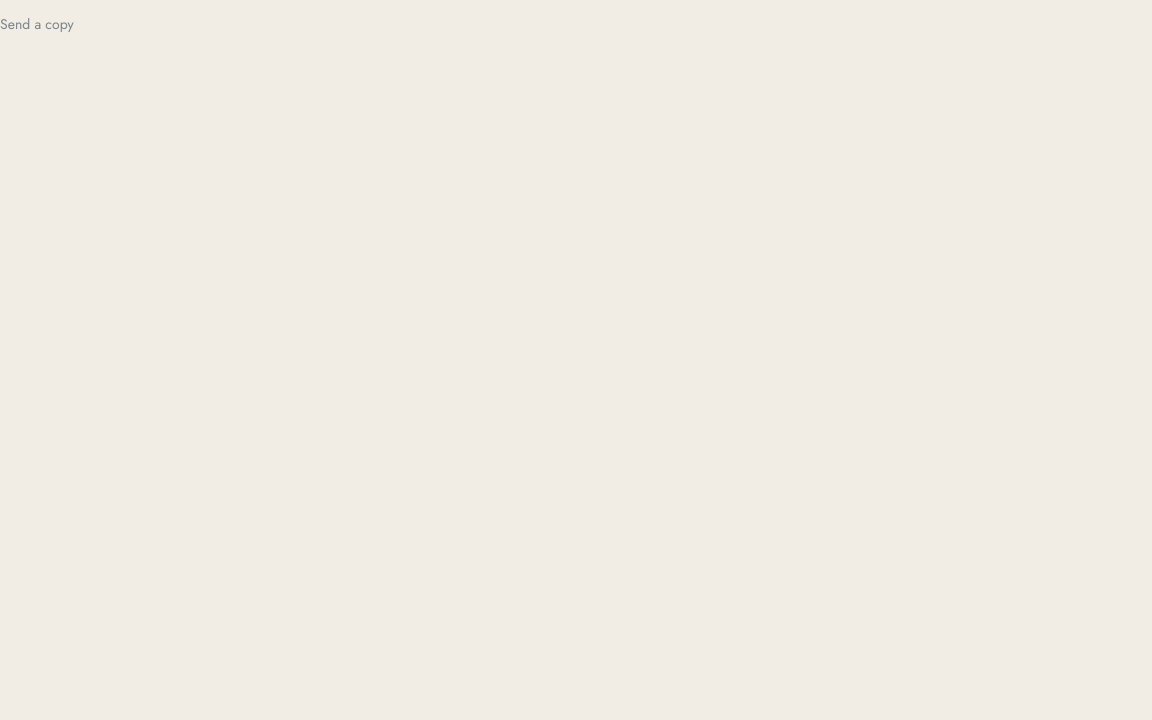
artifact copy sending › keeps the sheet open without feedback on cancellation and creates a fresh link on retry
Later steps or results of the test are not shown.
Click the button "Send a copy". click: (37, 24)
box: [0,6,74,42]
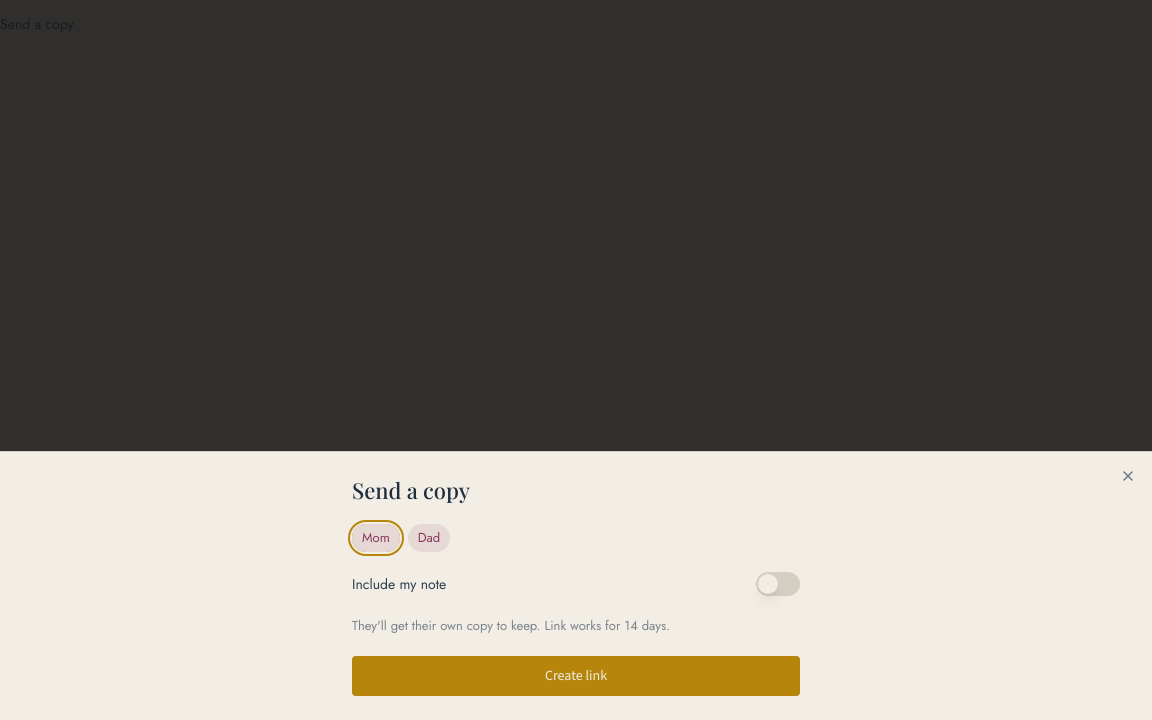
Result: the button "Create link" is enabled
Click the button "Create link". click: (576, 676)
box: [352,656,800,696]
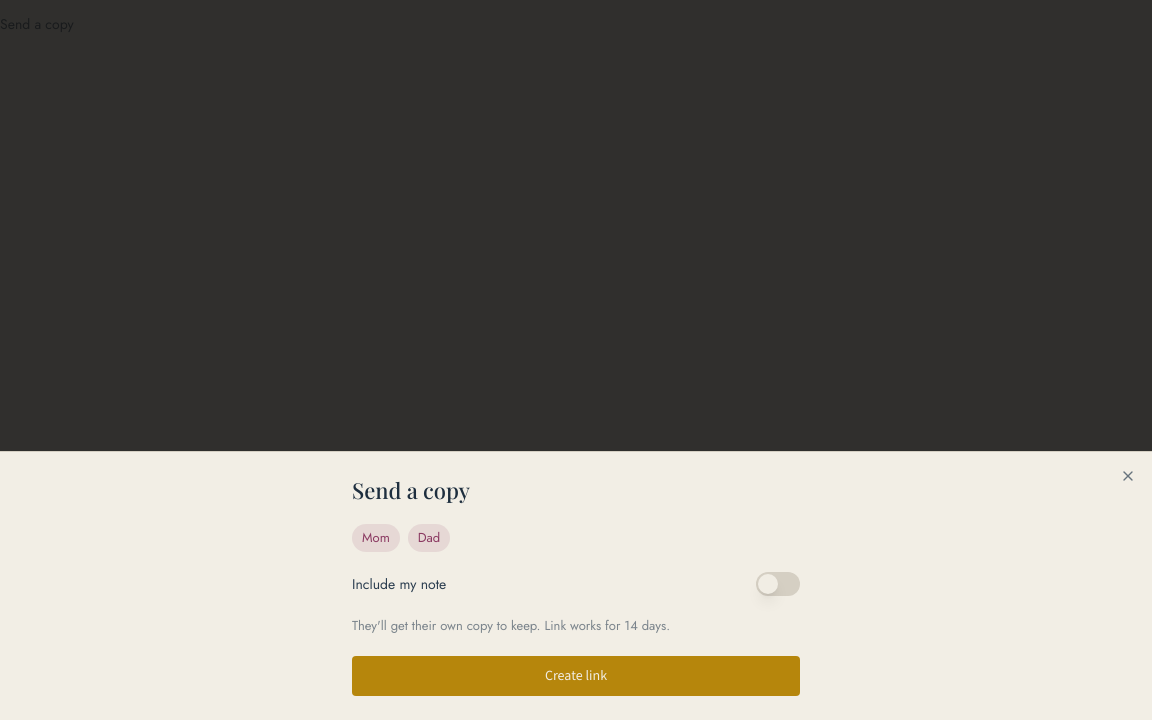
Result: the dialog is shown at [0,451,1151,719]
